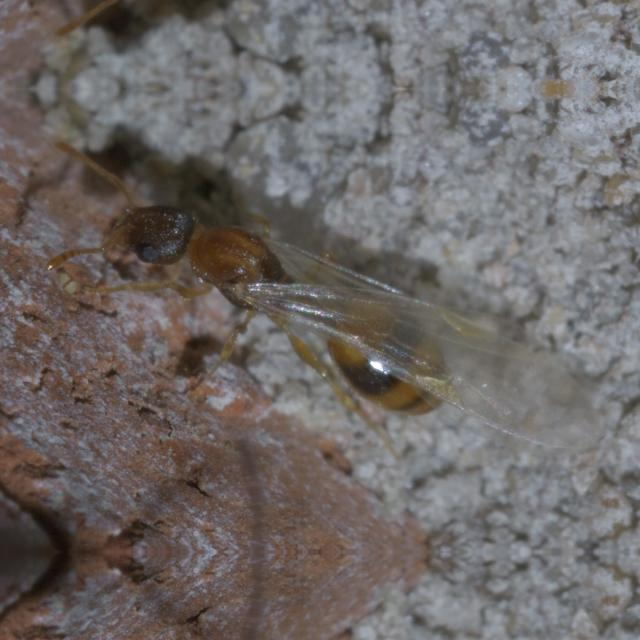Temnothorax: (42, 168, 570, 462)
